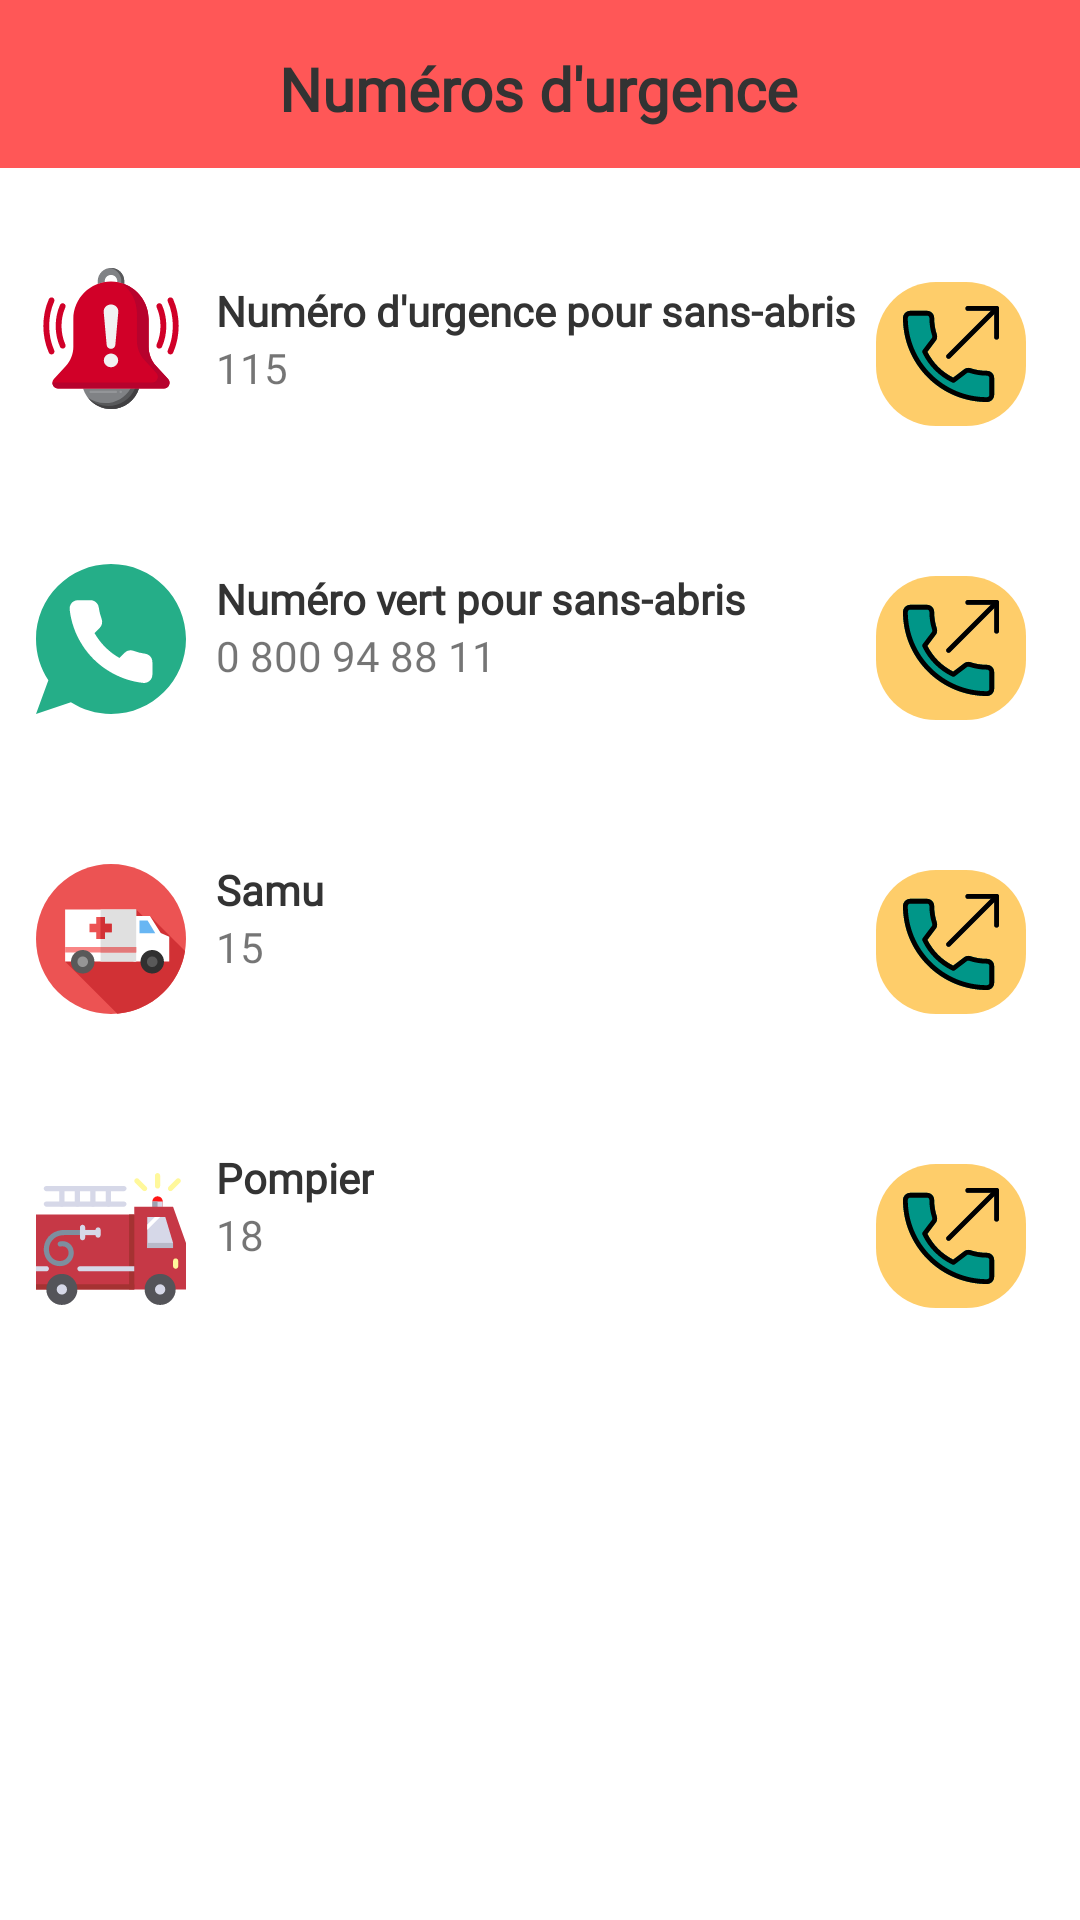

Icons on this 1080*1920 Android screen, each with its box as (x1, y1, x2, y2):
alarm: (43, 268, 179, 409)
ambulance: (36, 864, 186, 1014)
appel: (876, 282, 1026, 426), (876, 576, 1026, 720), (876, 870, 1026, 1014), (876, 1164, 1026, 1308)
firefighter: (36, 1173, 186, 1305)
